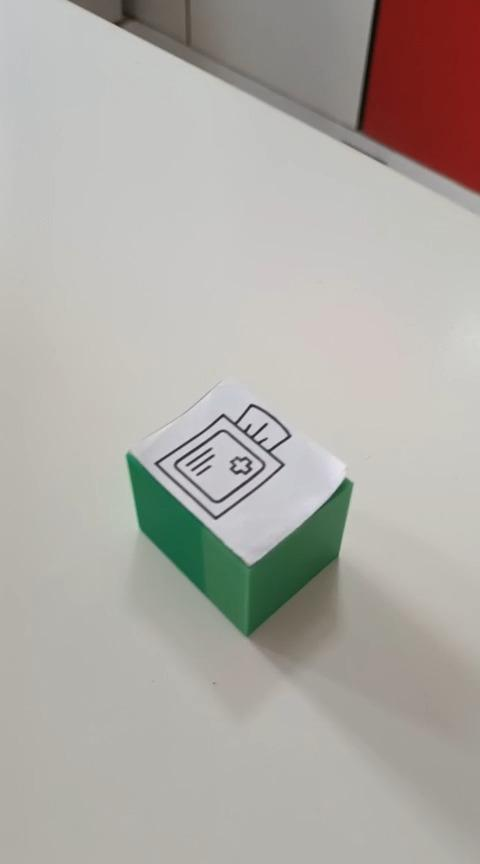Gauze: (124, 376, 354, 637)
